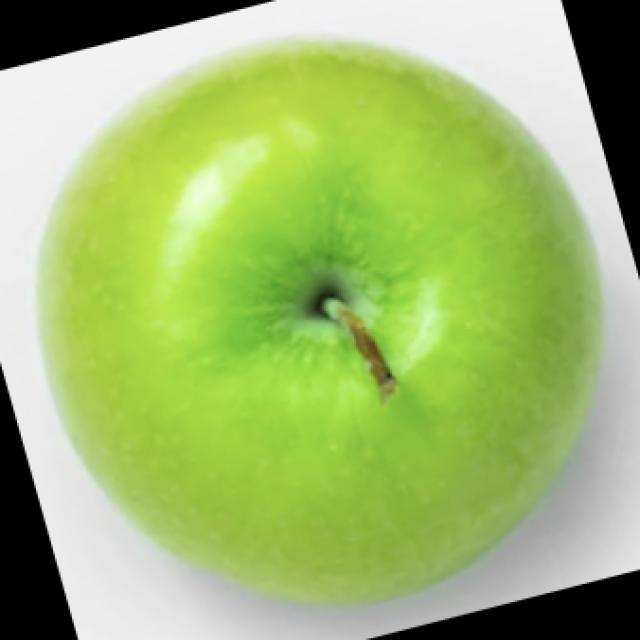Apple: (34, 34, 605, 605)
